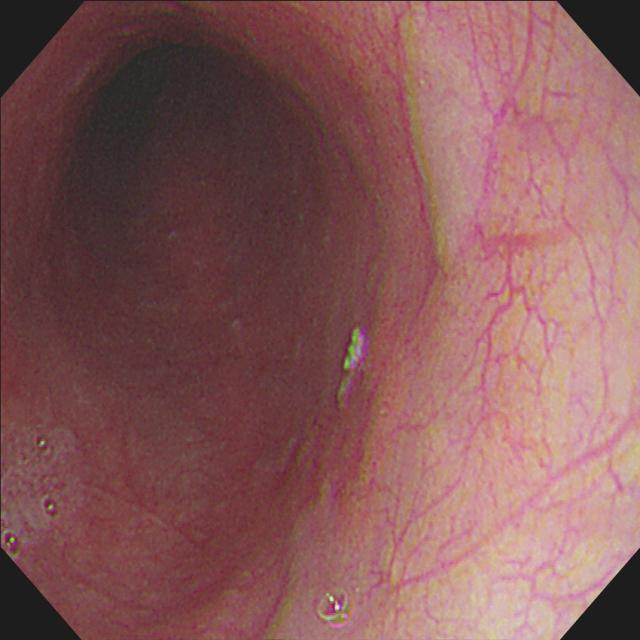A: (398, 16, 507, 275)
E: (73, 44, 226, 231)
J: (337, 326, 368, 413)
T: (2, 419, 79, 560), (315, 585, 360, 633)
